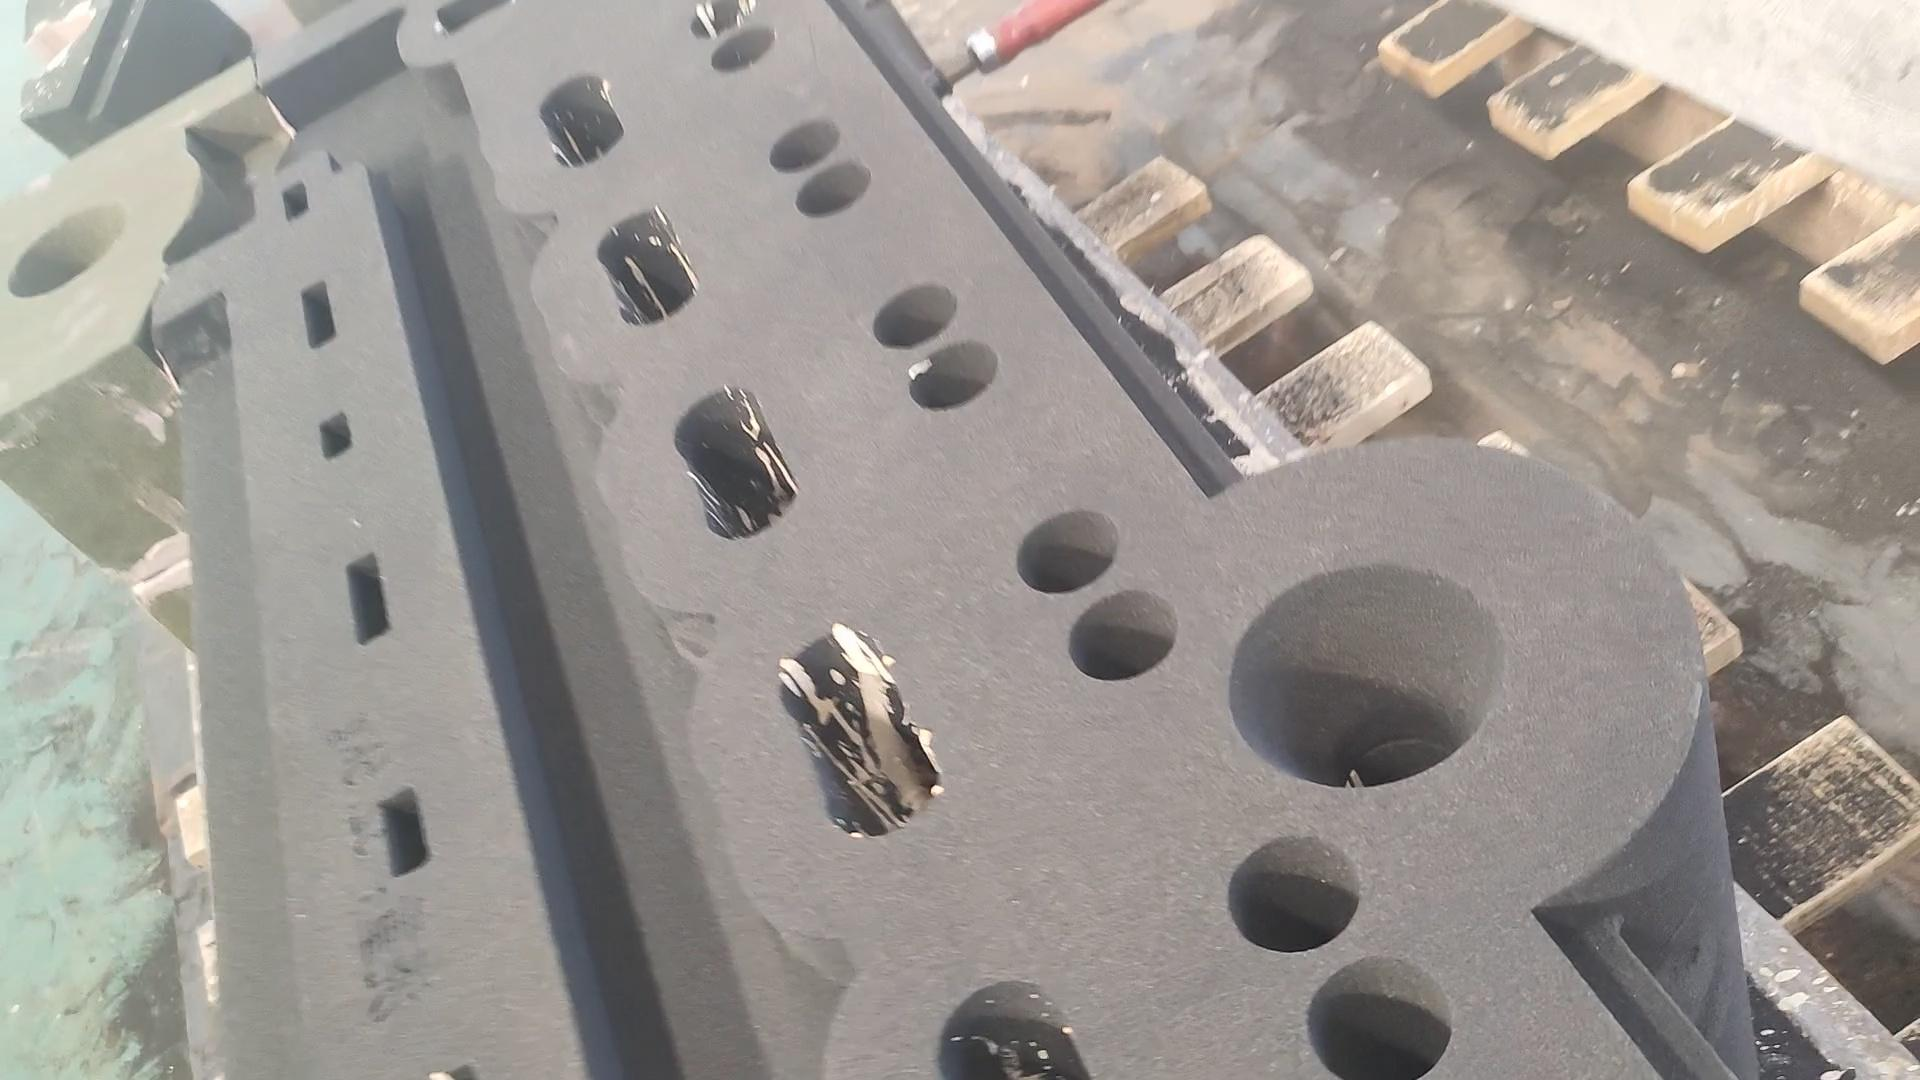pouring hole: (1228, 564, 1505, 789), (8, 200, 132, 298)
